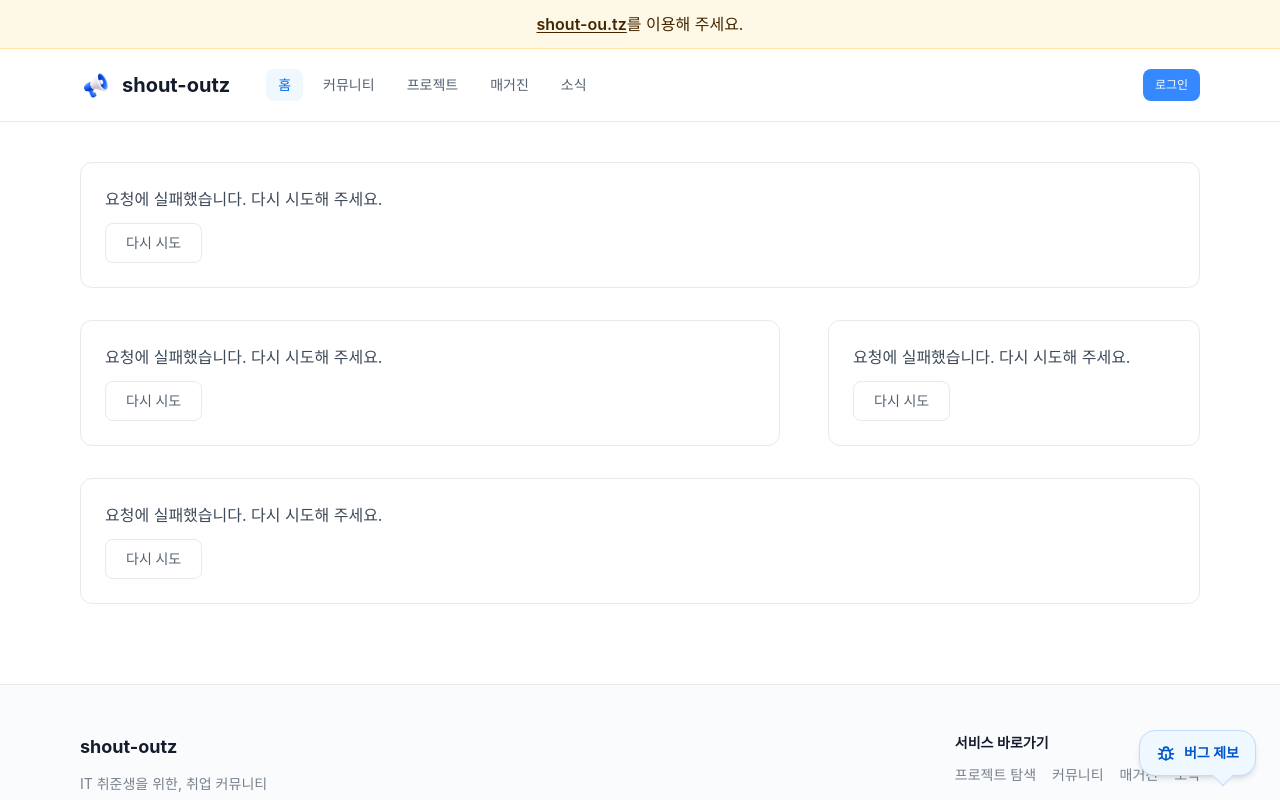
Test: AuthActions › 비로그인 상태에서 로그인 시트로 GitHub 링크를 안내한다
What coordinates should you click on to do the following:
click the button "로그인"
I would click on:
 (1171, 85)
Its box is [1143,69,1200,101].
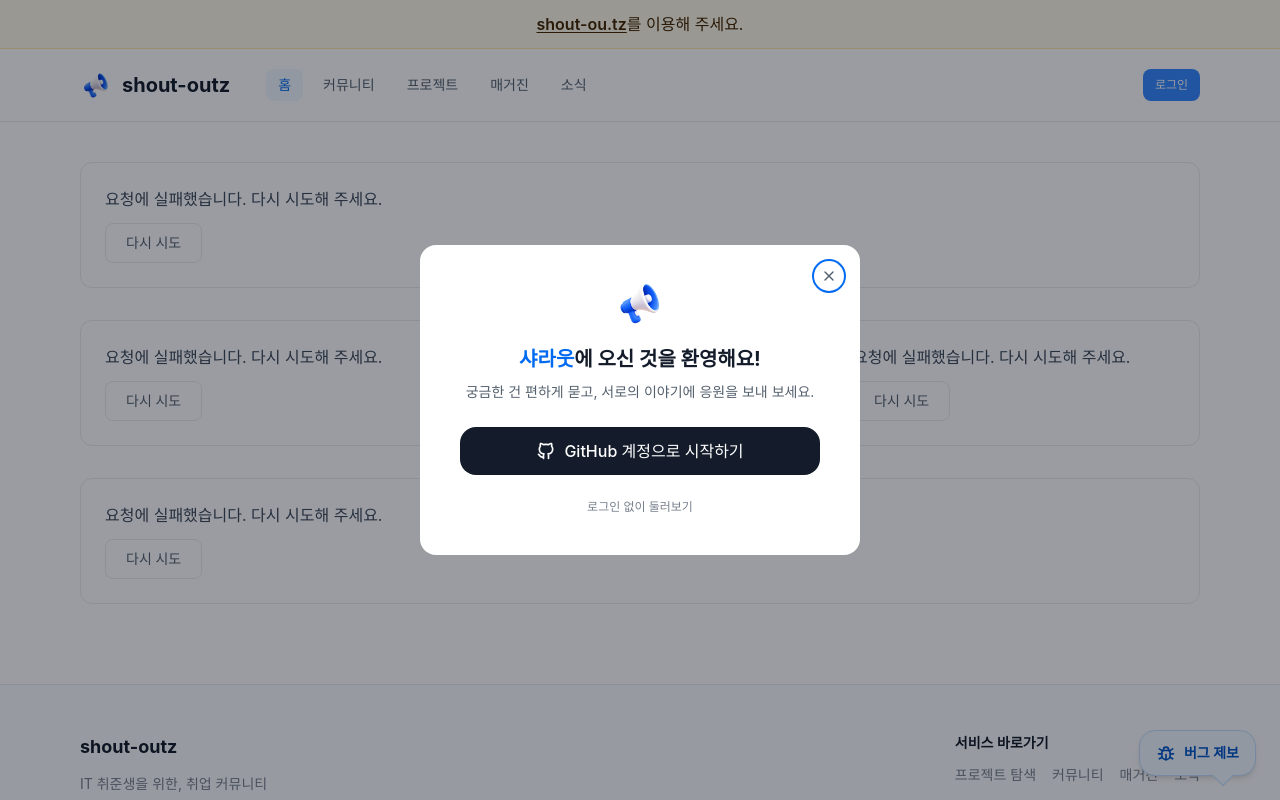
Result: the button "GitHub 계정으로 시작하기" is enabled at [460,427,820,475]
